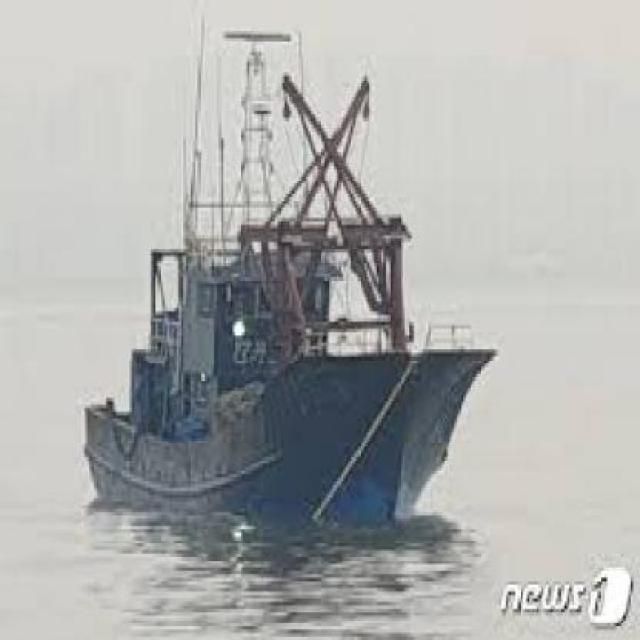fish-b: (64, 1, 507, 563)
